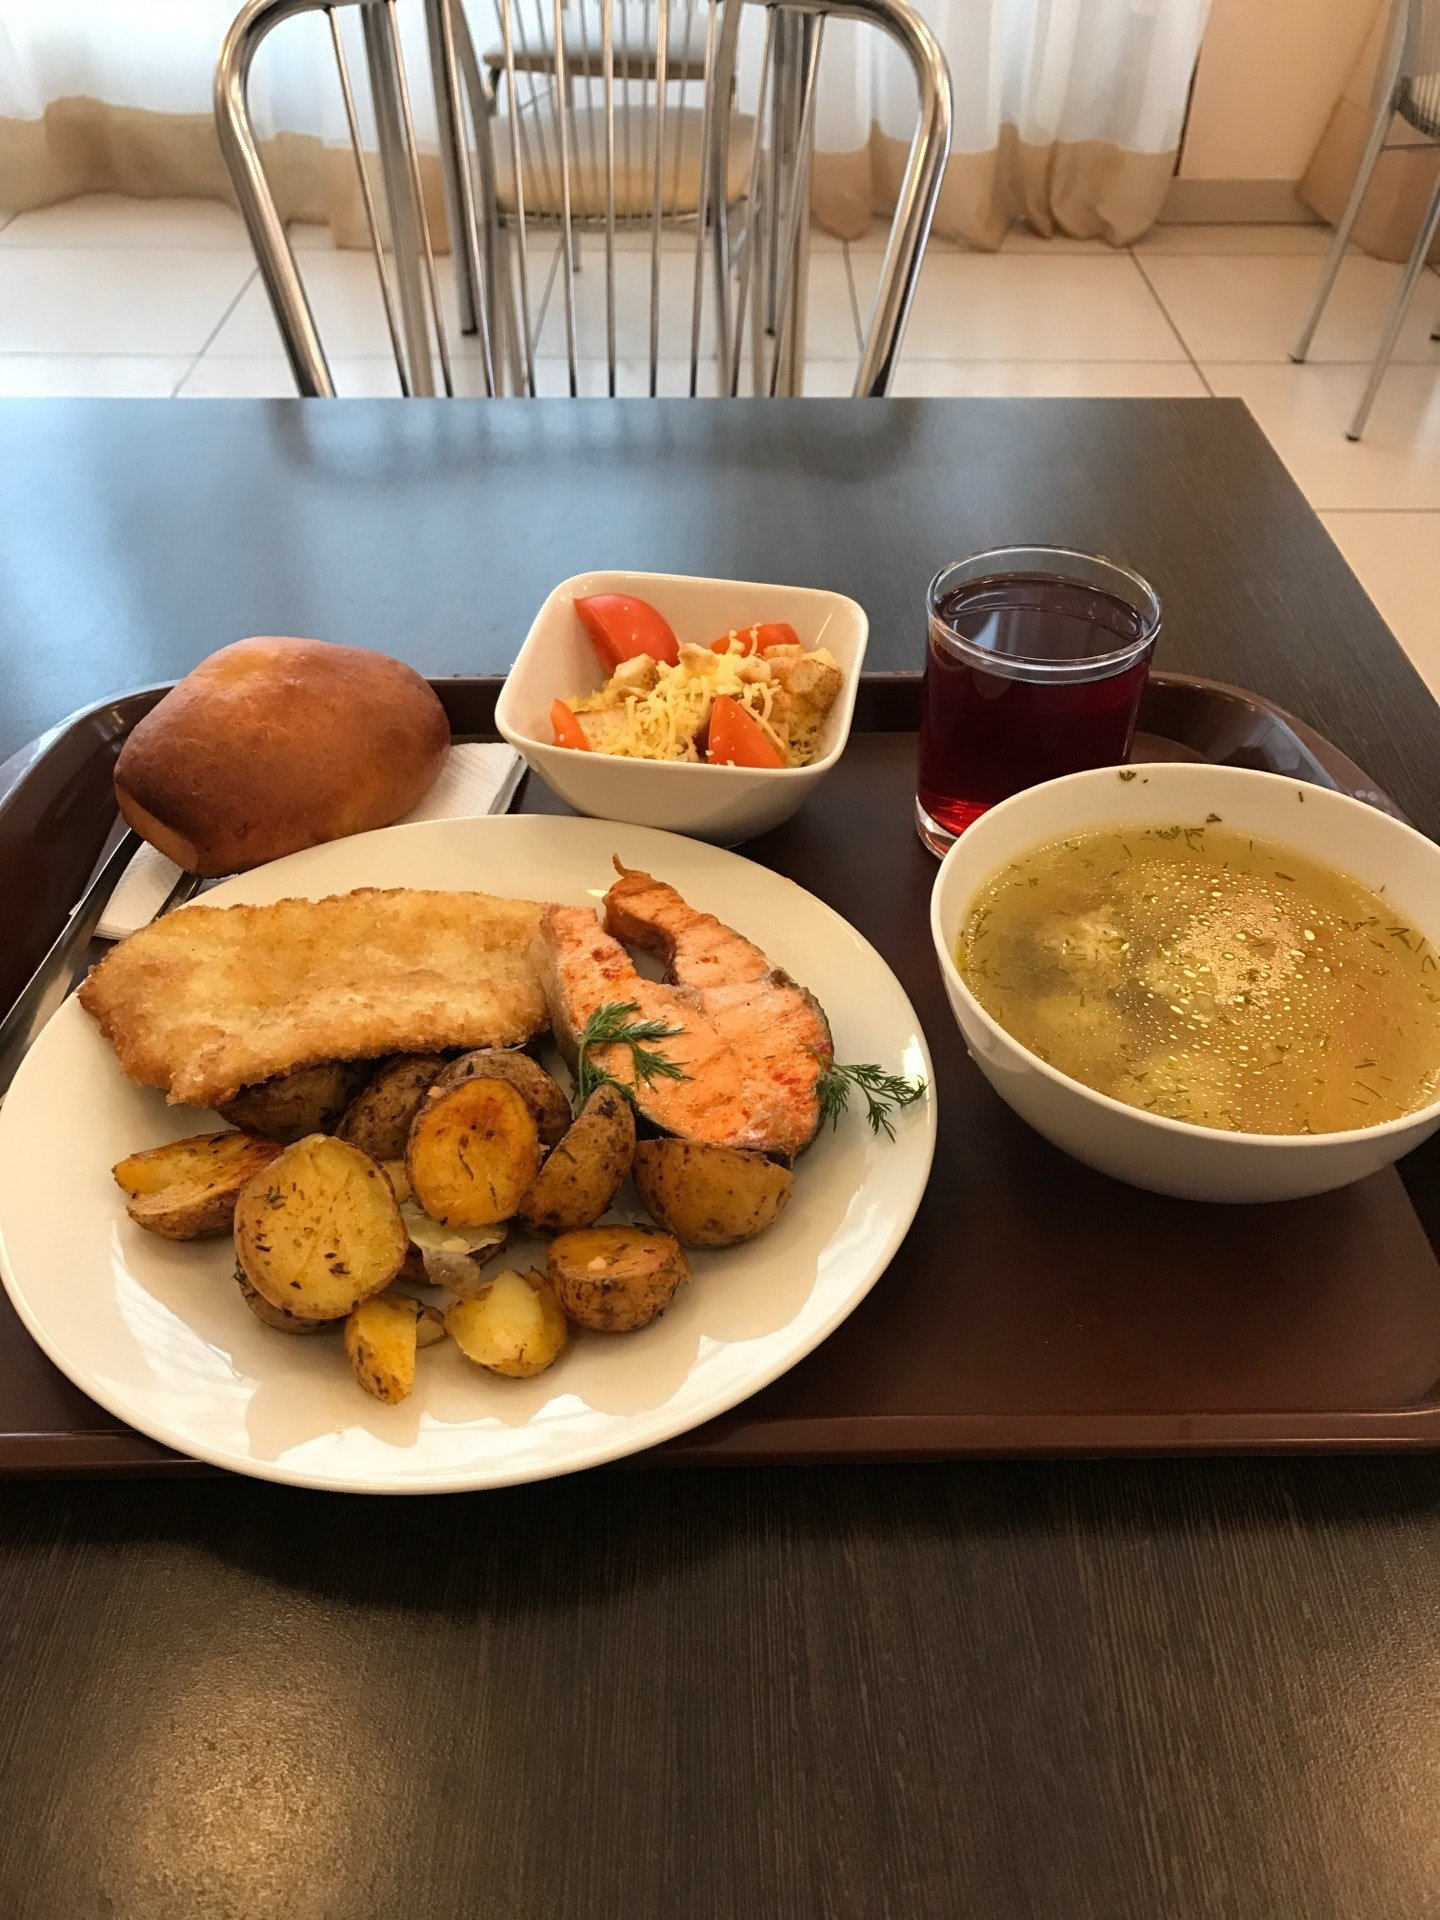bowl: (935, 763, 1440, 1206), (498, 553, 873, 848)
drink: (920, 538, 1159, 866)
other: (113, 630, 469, 874)
plate: (3, 816, 939, 1498)
